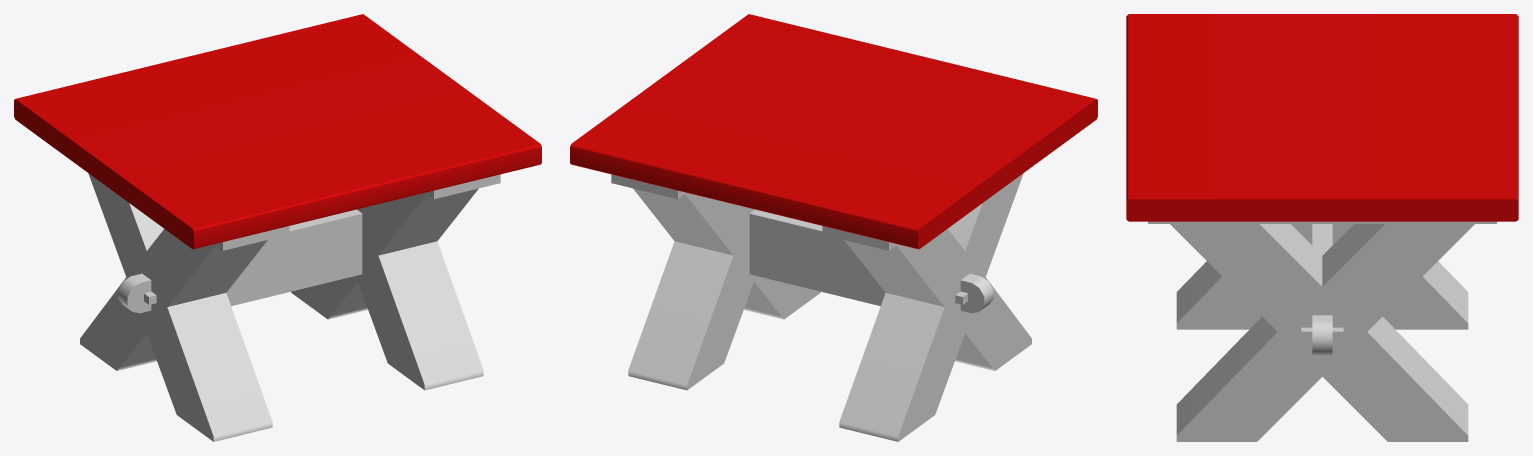
The model's file is SM_Bench_02.fbx.
The picture shows the model from 3 angles, left to right: view 1: azimuth 30°, elevation 25°; view 2: azimuth 150°, elevation 25°; view 3: azimuth 270°, elevation 25°; orthographic projection. The views are drawn at different scales.
Visible parts, largest first — view 1: SM_Bench_02_LOD0; view 2: SM_Bench_02_LOD0; view 3: SM_Bench_02_LOD0.
Part boxes in pixels (x1=…): SM_Bench_02_LOD0: x1=14, y1=14, x2=541, y2=441; SM_Bench_02_LOD0: x1=570, y1=14, x2=1097, y2=441; SM_Bench_02_LOD0: x1=1126, y1=14, x2=1518, y2=441.
Bounding box in the file's own units: 73.25 × 65.54 × 48.2.
